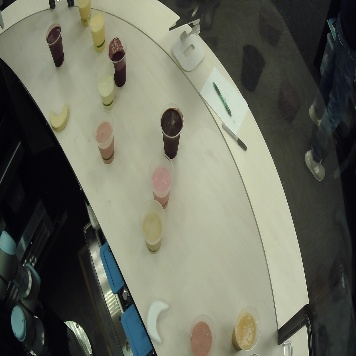full_cup: (159, 102, 184, 160), (230, 306, 261, 351), (147, 154, 173, 207), (139, 201, 165, 254), (188, 313, 216, 356), (107, 35, 128, 87), (92, 114, 114, 163), (45, 23, 65, 67), (88, 9, 107, 53), (96, 70, 115, 109), (77, 1, 92, 26)
puck: (147, 298, 170, 344), (48, 103, 69, 132)
